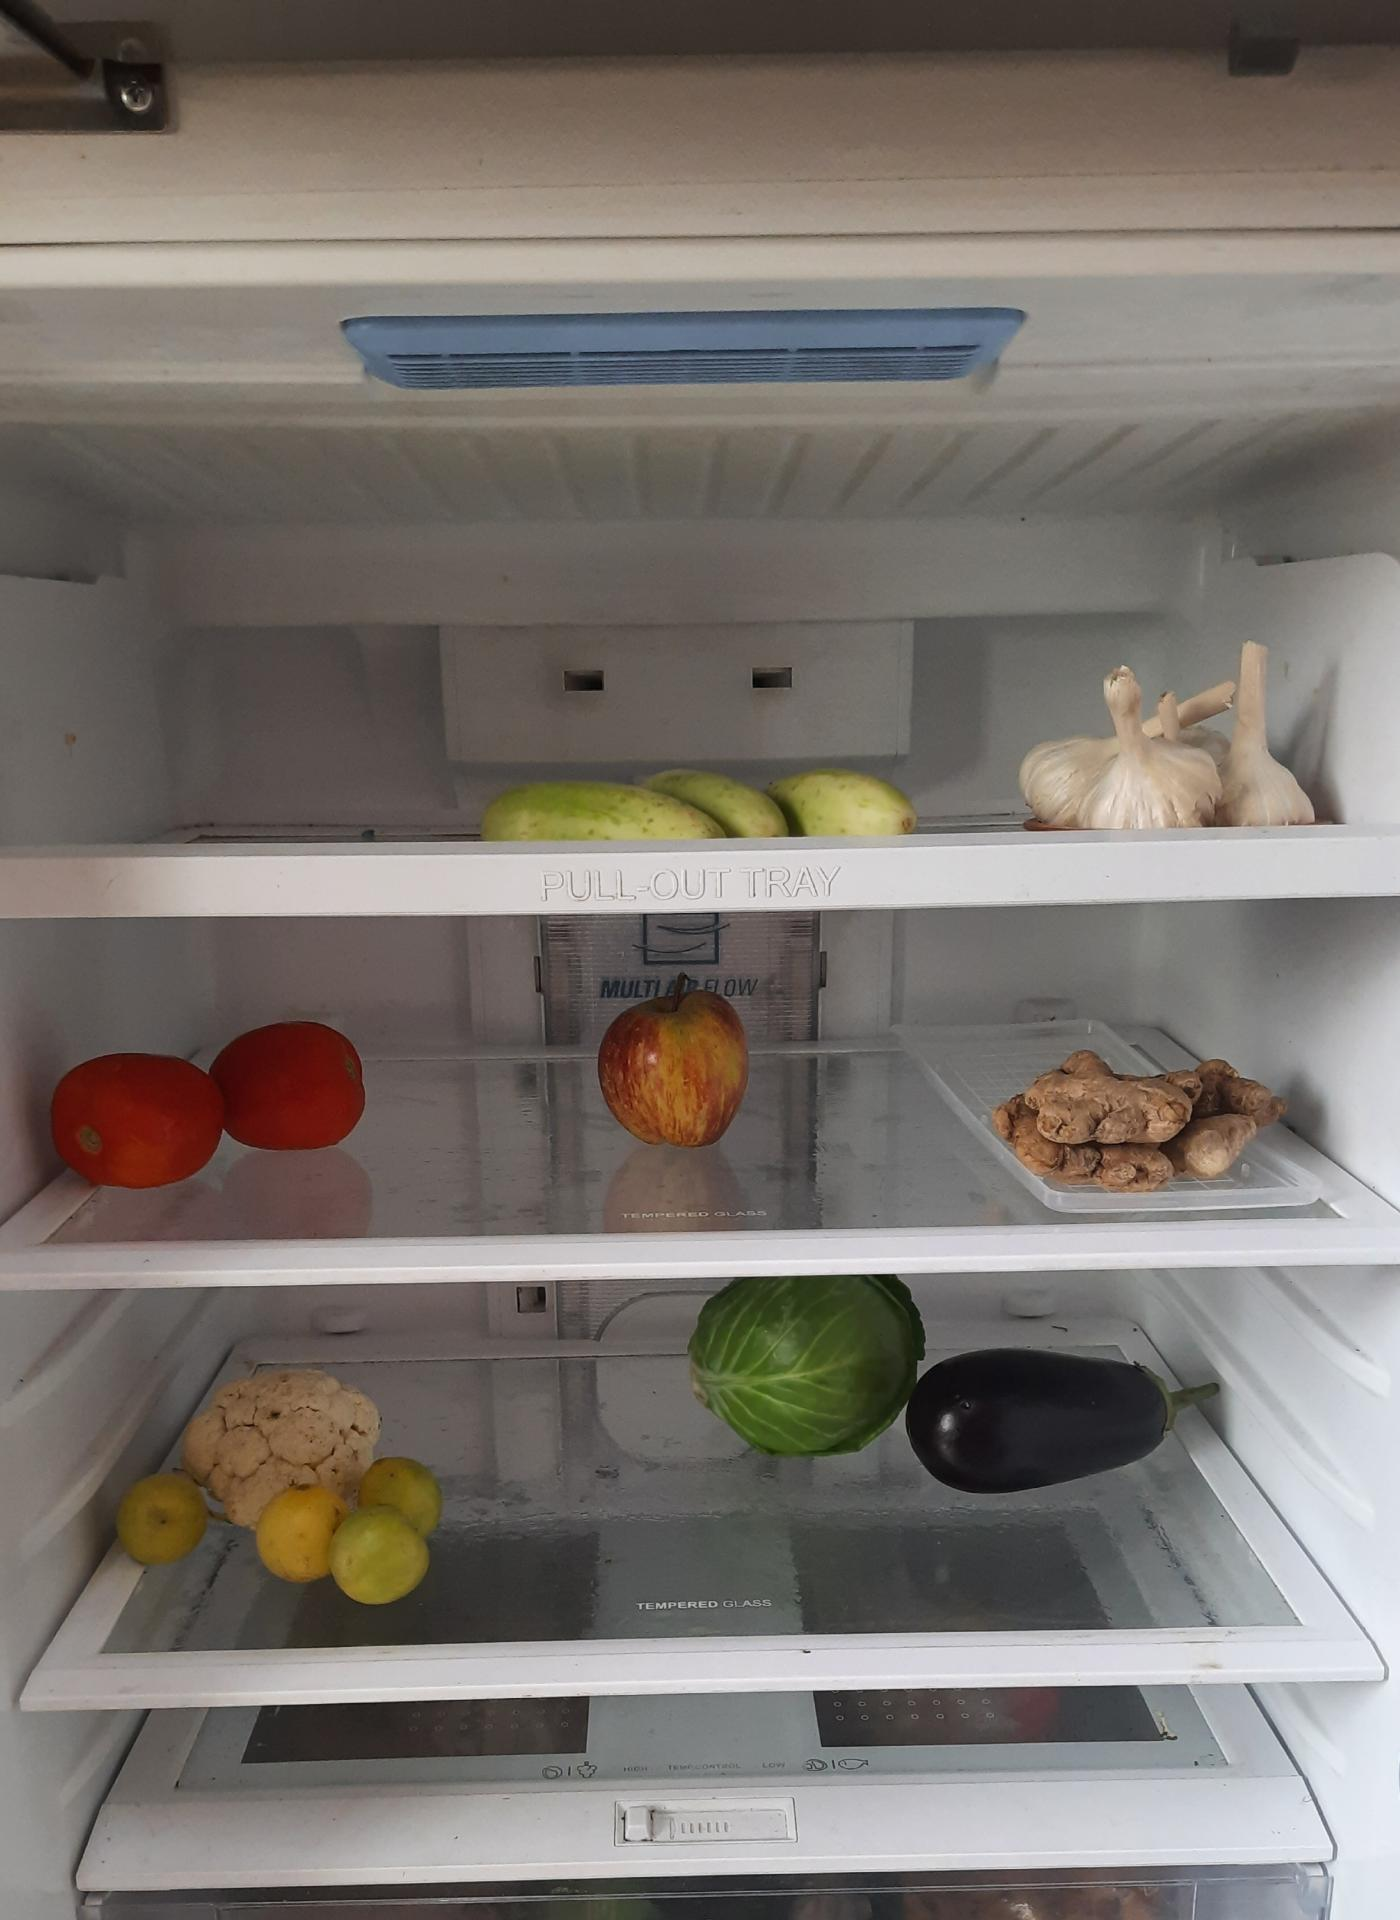apple: (596, 984, 744, 1151)
brinjal: (905, 1333, 1224, 1482)
cabbage: (687, 1283, 920, 1459)
cauliflower: (171, 1360, 410, 1532)
cucumber: (479, 769, 918, 848)
garlic: (1018, 656, 1330, 838)
ginger: (993, 1054, 1287, 1193)
lemon: (252, 1458, 441, 1604), (115, 1468, 221, 1580)
tomato: (58, 1008, 371, 1176)
